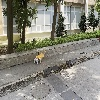fire: (36, 52, 44, 60)
